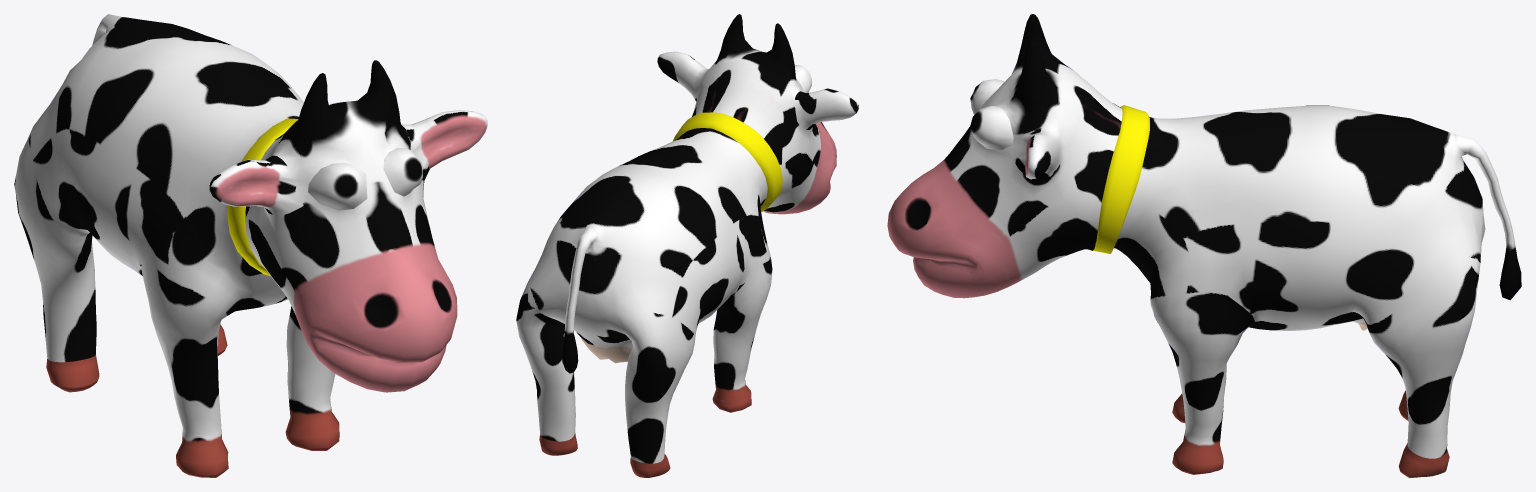
The model's file is Cow_Base.fbx.
The picture shows the model from 3 angles, left to right: view 1: azimuth 30°, elevation 25°; view 2: azimuth 150°, elevation 25°; view 3: azimuth 270°, elevation 25°; orthographic projection. The views are drawn at different scales.
Parts seen in each view (by area): view 1: cow_low_poly:Group49178; view 2: cow_low_poly:Group49178; view 3: cow_low_poly:Group49178.
Part boxes in pixels (x1,y1,x2,y2): cow_low_poly:Group49178: (14,14,487,477); cow_low_poly:Group49178: (516,14,858,477); cow_low_poly:Group49178: (887,14,1521,477).
Size of the model in its own units: 147 by 231 by 318.
1 material, 1 textured.
